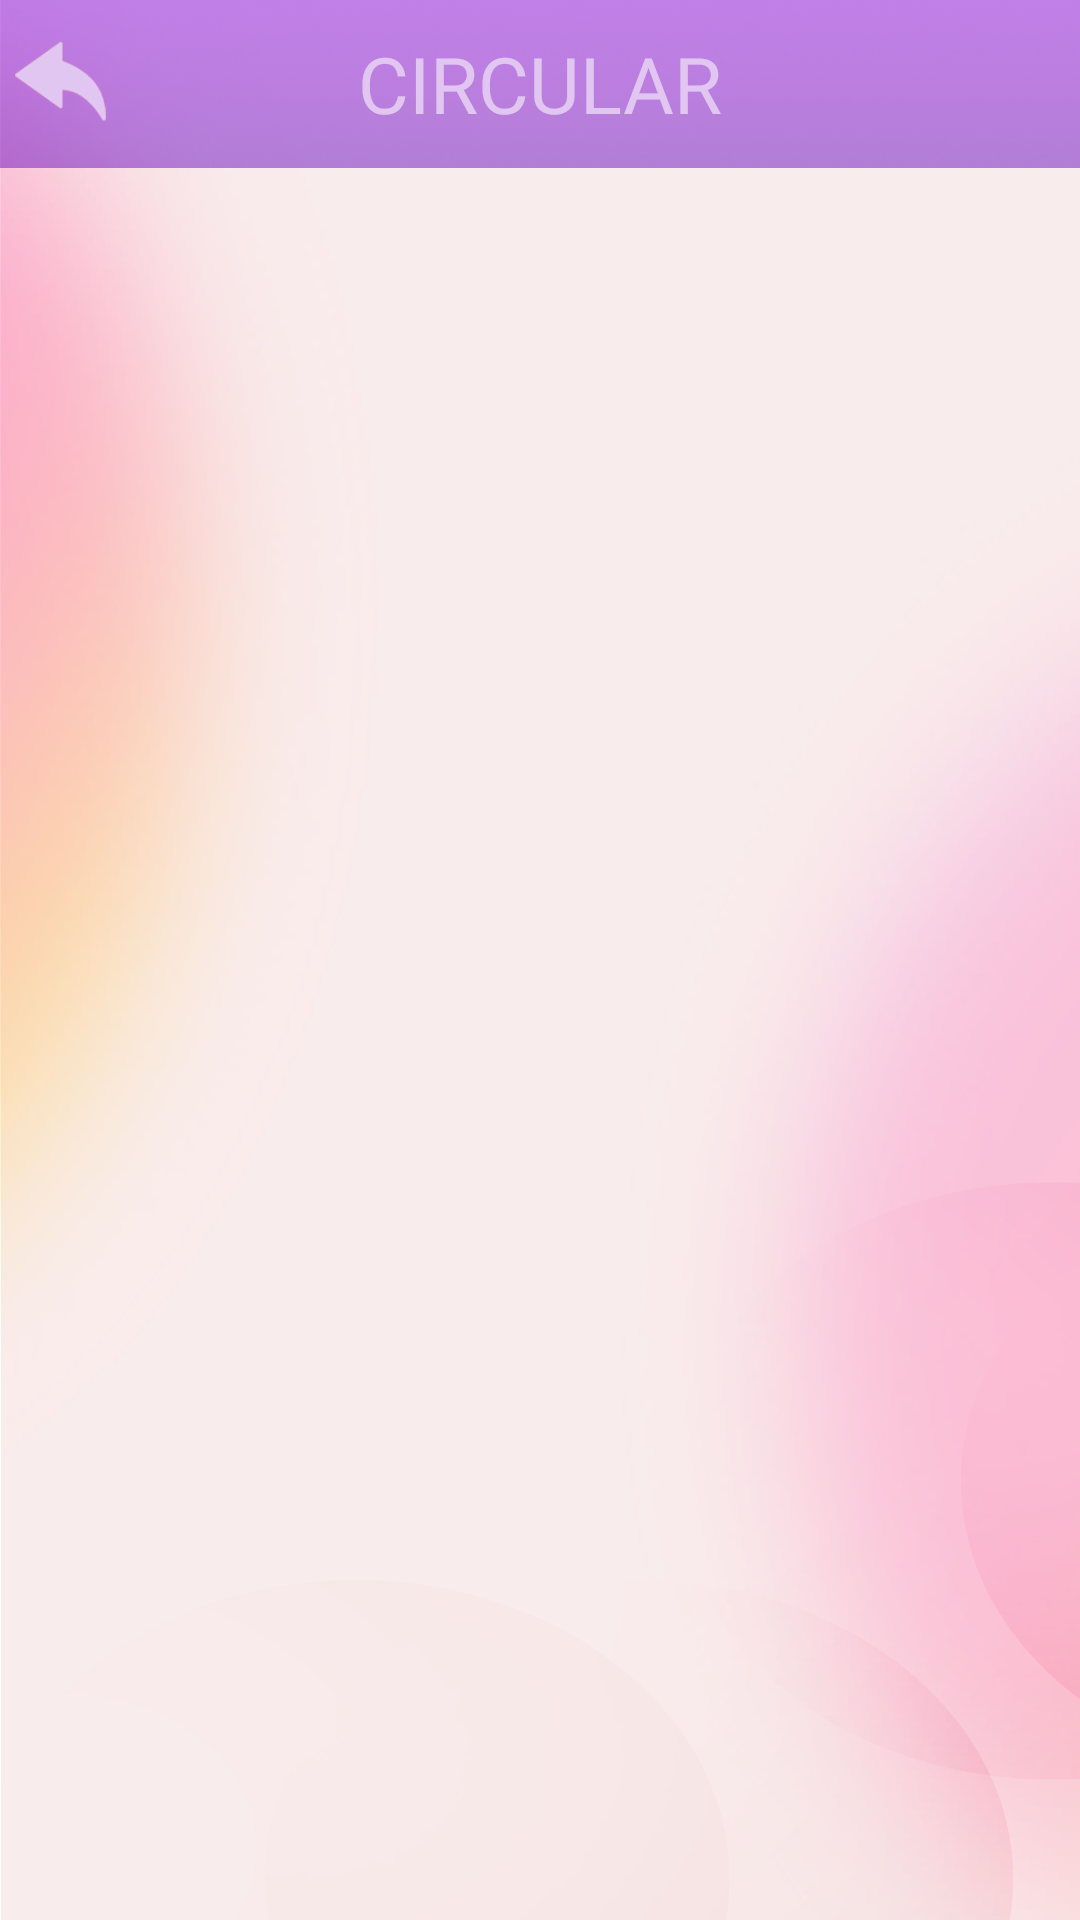

Where to tap for icons on this 1080×1920 app screen, as point (x, y):
undo: point (60, 92)
